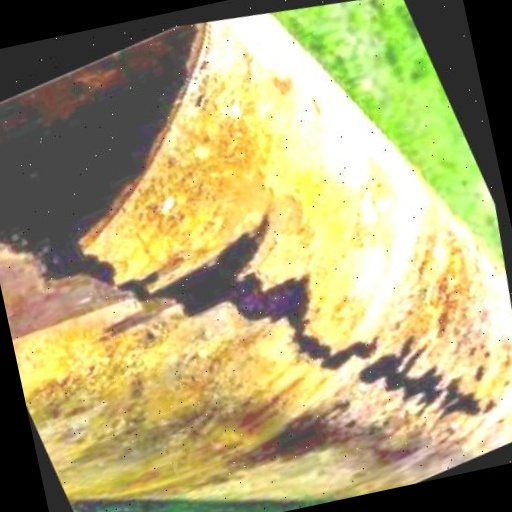corrosion: (122, 215, 512, 512)
crack: (142, 142, 491, 512), (206, 122, 512, 512), (160, 69, 372, 366)
